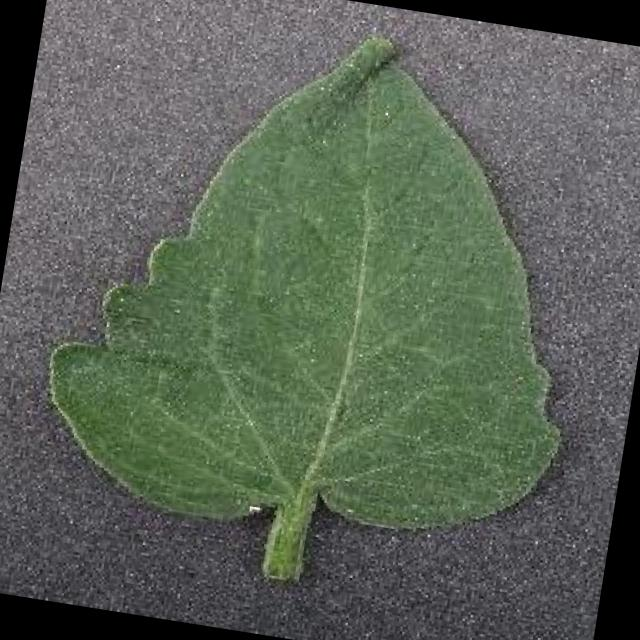Tomato_Healthy: (18, 0, 624, 570)
